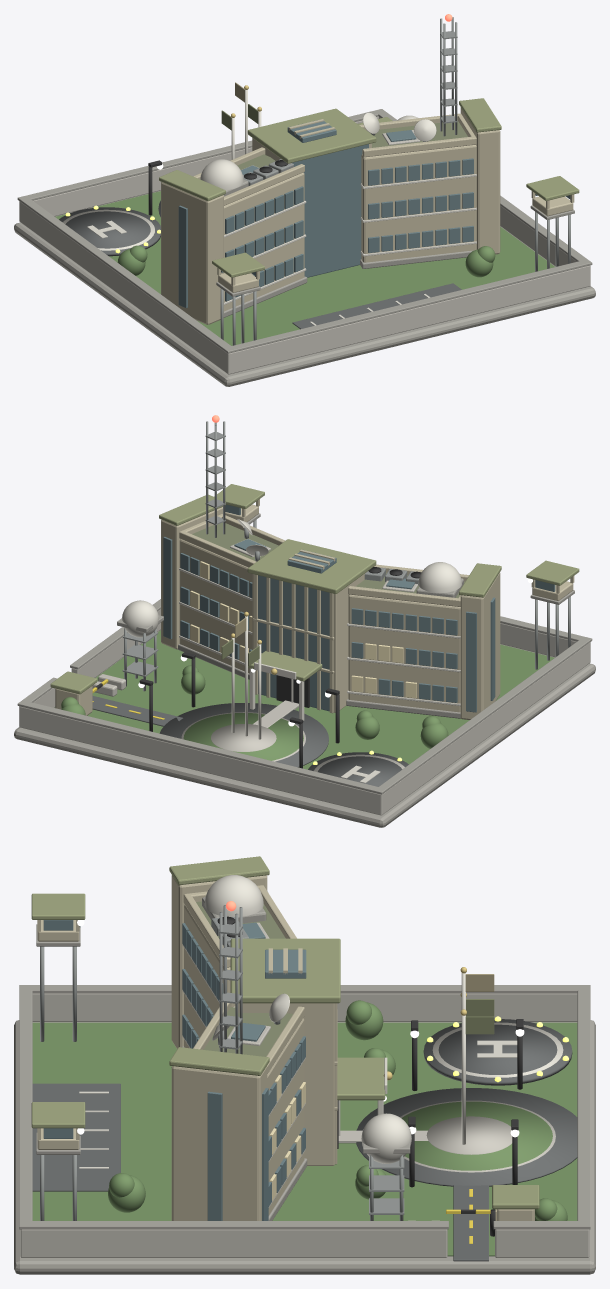
3 views of the same model, one above another, from view 1: azimuth 30°, elevation 25°; view 2: azimuth 150°, elevation 25°; view 3: azimuth 270°, elevation 25° (orthographic). The views are drawn at different scales.
Visible parts, largest first — view 1: Cube.001, Cube, Cube.190, Cube.025, Cube.161, Cube.151, Cube.192, Cube.094, Cube.173, Cube.188, Cube.082, Cube.191 (+22 smaller); view 2: Cube.001, Cube, Cube.188, Cube.094, Cube.161, Cube.192, Cube.025, Cube.151, Cube.173, Cube.189, Cylinder.001, Cylinder.003 (+29 smaller); view 3: Cube.001, Cube, Cube.196, Cube.082, Cube.192, Cylinder.001, Cube.002, Cube.173, Cube.172, Cylinder.003, Cube.197, Cylinder.031 (+34 smaller).
Boxes of the visible parts, x1,y1,x2,y2 form: Cube.001: (55,191,554,345); Cube: (14,190,595,386); Cube.190: (225,265,590,374); Cube.025: (361,145,476,262); Cube.161: (292,144,368,277); Cube.151: (161,182,223,324); Cube.192: (21,203,225,372); Cube.094: (224,172,304,311); Cube.173: (247,108,376,163); Cube.188: (19,116,378,222); Cube.082: (460,107,500,254); Cube.191: (223,259,592,353); Cube.001: (55,630,554,769); Cube: (14,630,595,827); Cube.188: (19,706,384,815); Cube.094: (348,594,460,712); Cube.161: (258,575,329,711); Cube.192: (385,643,588,812); Cube.025: (179,539,252,673); Cube.151: (460,572,500,719); Cube.173: (247,539,376,593); Cube.189: (17,700,386,794); Cylinder.001: (159,703,328,767); Cylinder.003: (183,713,303,760); Cube.001: (32,1022,577,1256); Cube: (14,1020,595,1274); Cube.196: (27,1229,447,1257); Cube.082: (171,1066,267,1220); Cube.192: (32,993,577,1021); Cylinder.001: (356,1088,577,1186); Cube.002: (32,1083,120,1191); Cube.173: (230,938,340,1003); Cube.172: (238,1003,334,1165); Cylinder.003: (401,1101,552,1170); Cube.197: (25,1221,448,1229); Cylinder.031: (438,1024,557,1074).
Bounding box in the file's own units: 3.92 × 2.45 × 3.92.
